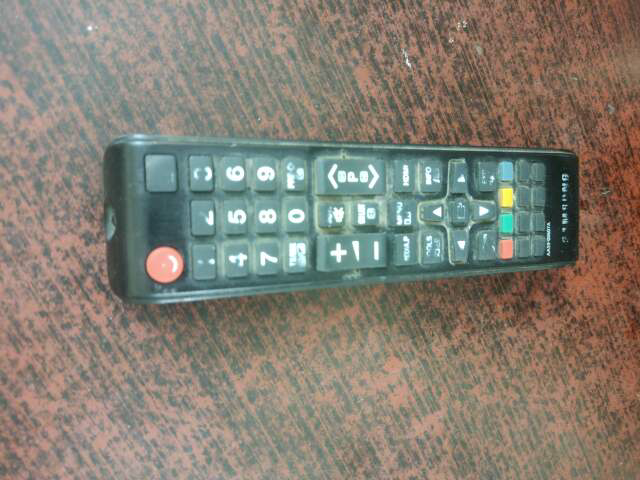remote: (93, 132, 589, 308)
